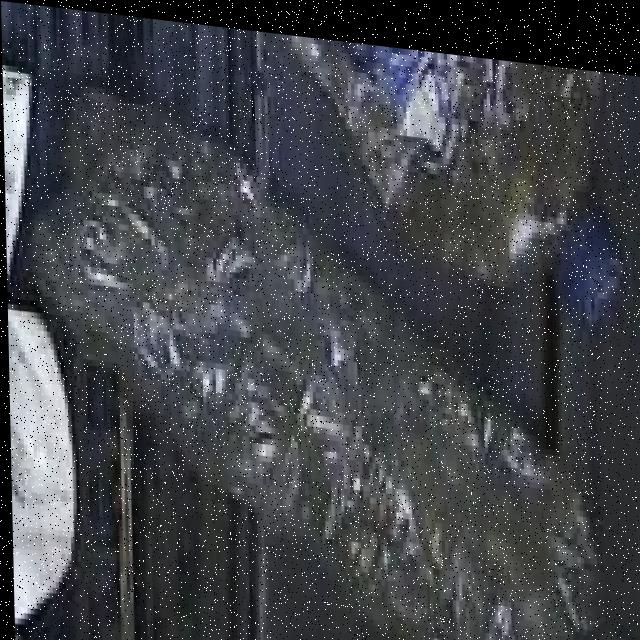plasticbottle: (569, 602, 640, 640)
